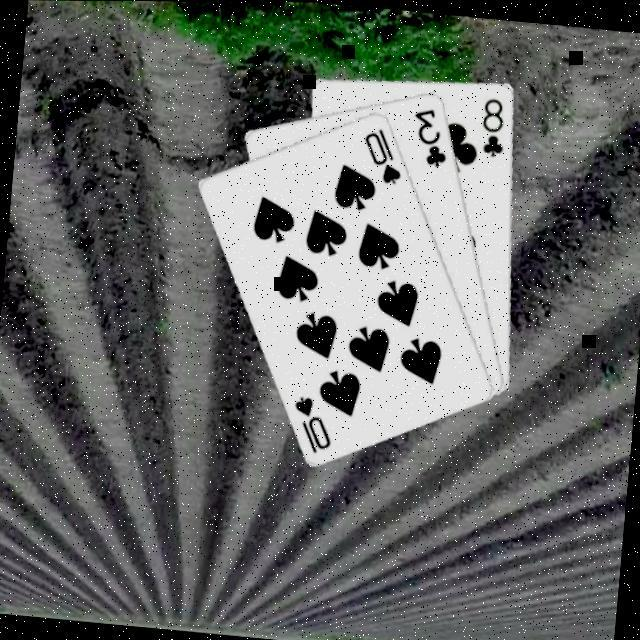10S: (284, 391, 336, 456), (356, 121, 406, 188)
3C: (405, 103, 451, 170)
8C: (475, 94, 509, 160)
